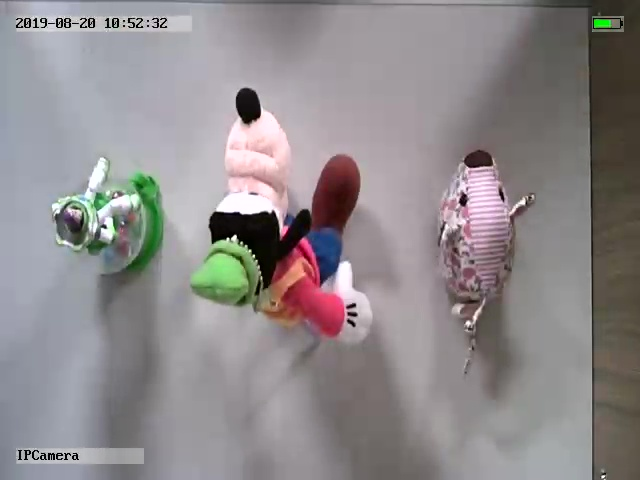buzz: (49, 153, 167, 275)
goofy: (188, 86, 373, 343)
pig: (435, 150, 536, 375)
